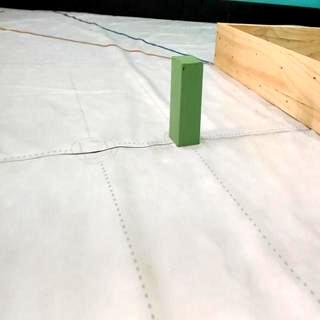greenbox: (167, 56, 204, 148)
